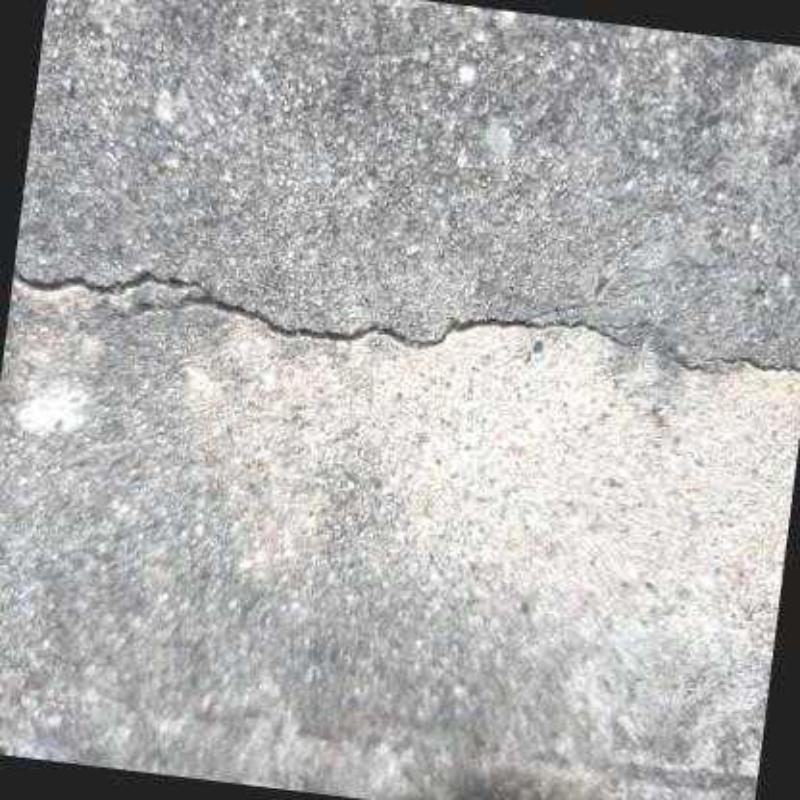pothole: (12, 265, 798, 376)
